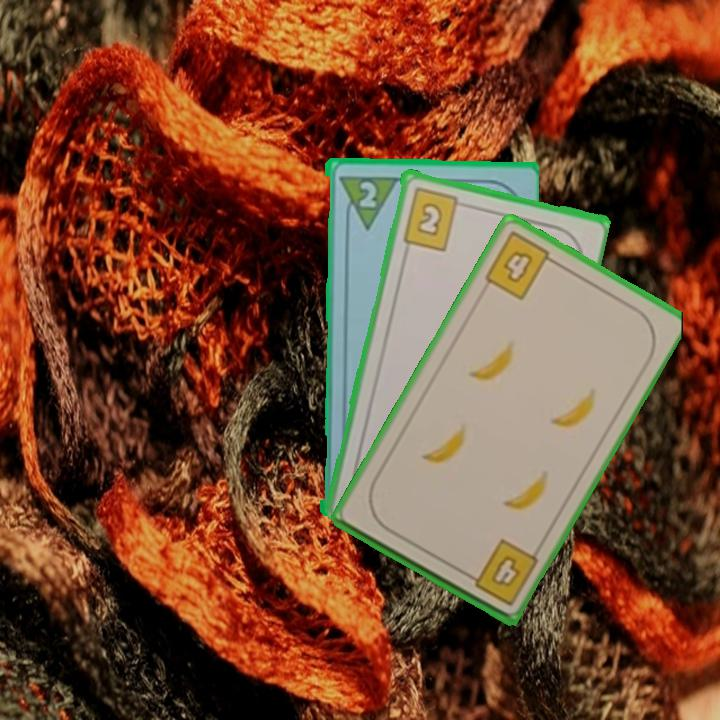2b: (398, 183, 470, 253)
2p: (353, 177, 378, 210)
4b: (480, 227, 561, 303), (460, 535, 541, 609)
